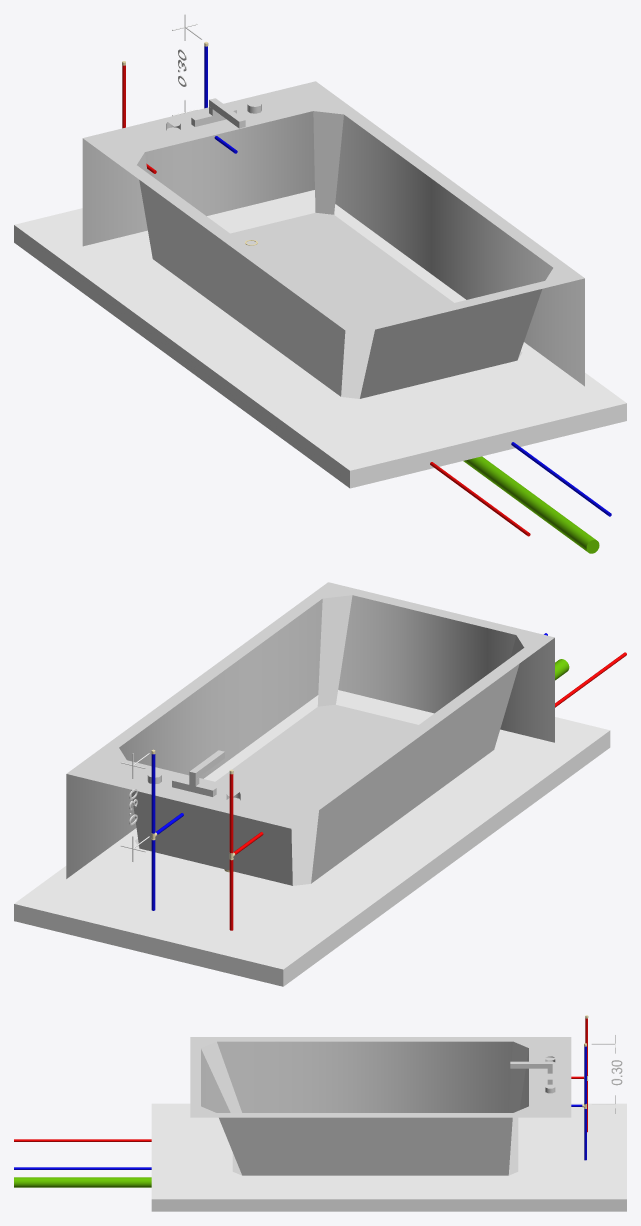
Rendered from tina.glb.
3 views of the same model, one above another, from view 1: azimuth 30°, elevation 25°; view 2: azimuth 150°, elevation 25°; view 3: azimuth 270°, elevation 25° (orthographic). The views are drawn at different scales.
Visible parts, largest first — view 1: Geom3D_Tina.dwg, Geom3D (×2); view 2: Geom3D_Tina.dwg, Geom3D; view 3: Geom3D_Tina.dwg, Geom3D (×4).
Part boxes in pixels (left/top/right/bottom): Geom3D_Tina.dwg: left=82, top=81, right=584, bottom=398; Geom3D (×2): left=14, top=190, right=626, bottom=553; Geom3D_Tina.dwg: left=66, top=582, right=554, bottom=885; Geom3D: left=14, top=690, right=610, bottom=986; Geom3D_Tina.dwg: left=190, top=1037, right=571, bottom=1175; Geom3D (×4): left=14, top=1103, right=626, bottom=1211.
Size of the model in its own units: 1.07 by 0.9431 by 2.9.
